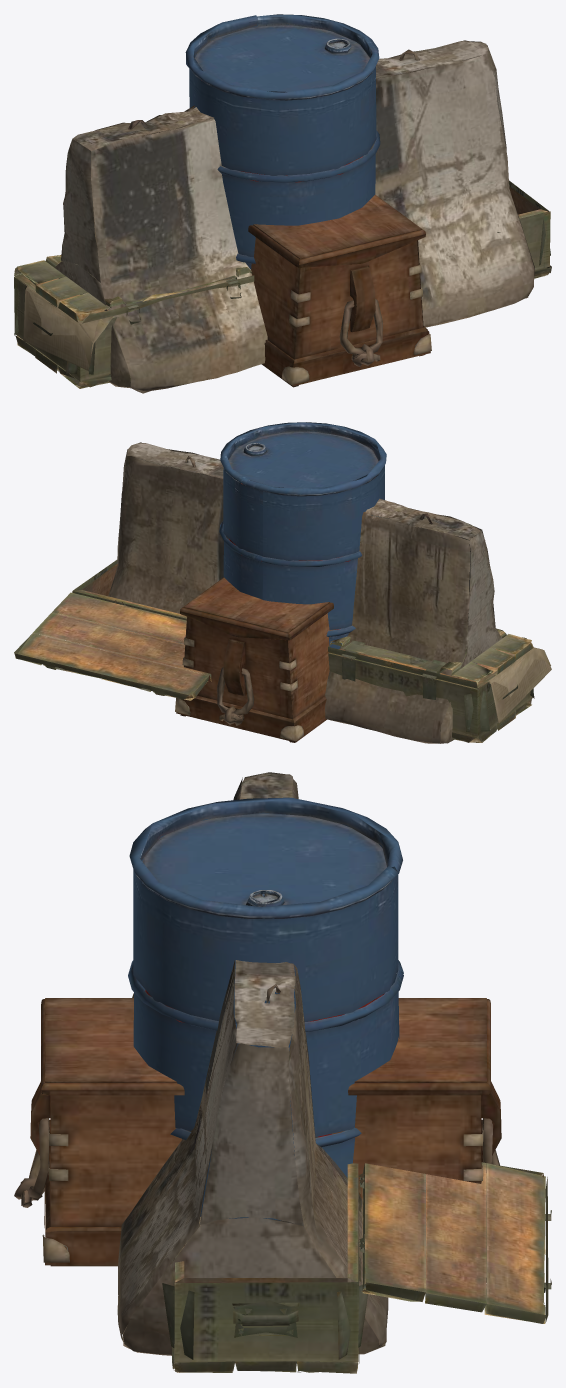
Rendered from props.glb.
3 views of the same model, one above another, from view 1: azimuth 30°, elevation 25°; view 2: azimuth 150°, elevation 25°; view 3: azimuth 270°, elevation 25° (orthographic). The views are drawn at different scales.
Visible parts, largest first — view 1: concrete_road_barrier_Mesh, barrel_03_Mesh, wooden_crate_02_Mesh, old_military_crate_Mesh; view 2: concrete_road_barrier_Mesh, barrel_03_Mesh, old_military_crate_Mesh, wooden_crate_02_Mesh; view 3: barrel_03_Mesh, concrete_road_barrier_Mesh, wooden_crate_02_Mesh, old_military_crate_Mesh.
Boxes of the visible parts, x1,y1,x2,y2 form: concrete_road_barrier_Mesh: (54,40,534,393); barrel_03_Mesh: (185,14,380,269); wooden_crate_02_Mesh: (248,194,431,387); old_military_crate_Mesh: (14,180,551,388); concrete_road_barrier_Mesh: (108,442,502,743); barrel_03_Mesh: (219,422,386,648); old_military_crate_Mesh: (14,560,551,742); wooden_crate_02_Mesh: (175,577,335,742); barrel_03_Mesh: (128,797,403,1220); concrete_road_barrier_Mesh: (117,772,388,1355); wooden_crate_02_Mesh: (14,998,501,1266); old_military_crate_Mesh: (132,993,551,1373).
Size of the model in its own units: 1.82 by 0.9418 by 1.24.
6 materials, 6 textured.
